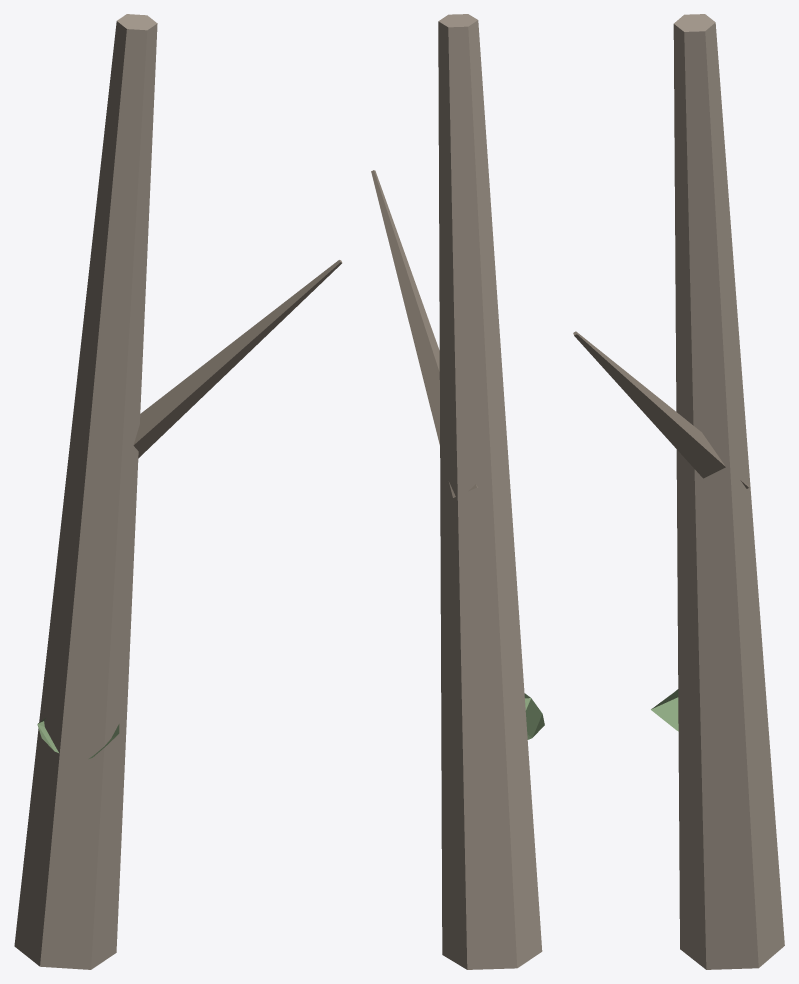
Rendered from snag_v07.glb.
3 renders of one model, left to right at view 1: azimuth 30°, elevation 25°; view 2: azimuth 150°, elevation 25°; view 3: azimuth 270°, elevation 25°, orthographic. The views are drawn at different scales.
Visible parts, largest first — view 1: lod0; view 2: lod0; view 3: lod0.
Part boxes in pixels (box(x1,y1,x2,y2)): lod0: box(14, 14, 342, 969); lod0: box(371, 14, 544, 969); lod0: box(573, 14, 784, 969).
Size of what is drawn, in the model's own units: 0.9153 by 3.42 by 0.6863.
